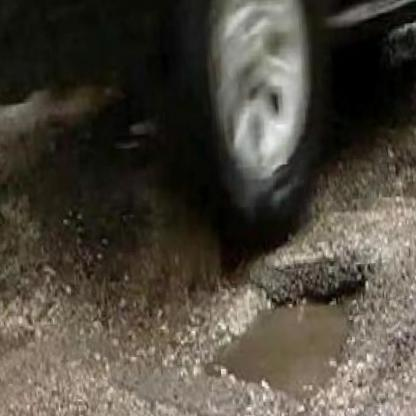pothole: (184, 253, 372, 416), (388, 129, 416, 237)
